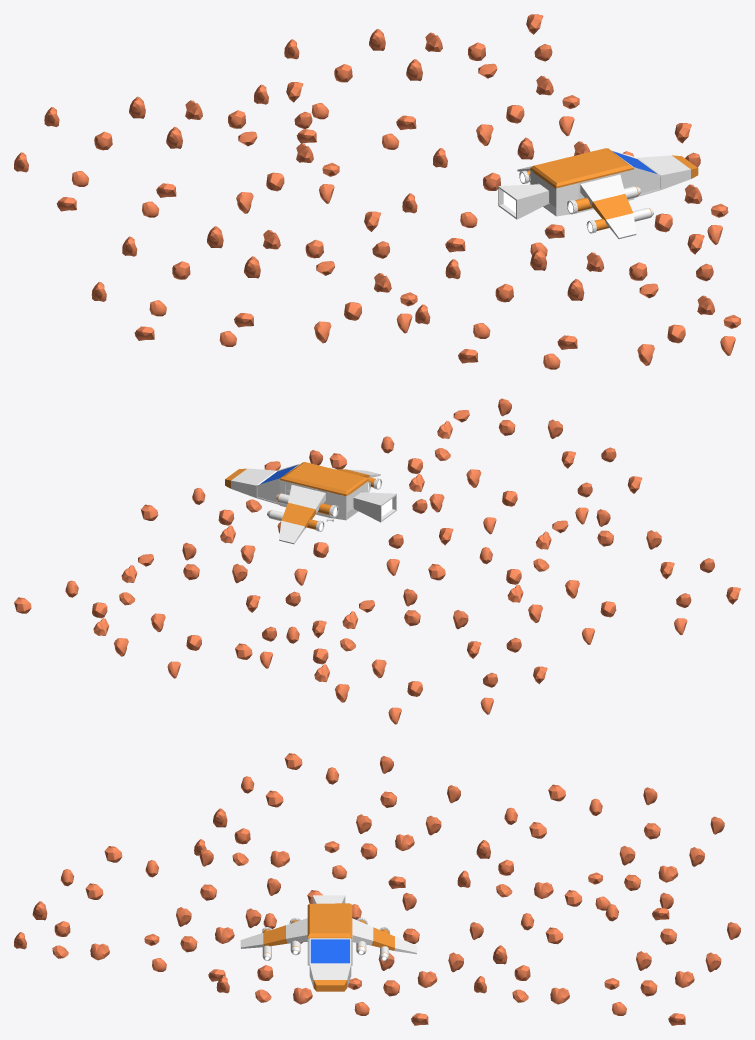
File: PortfolioSpaceBoxFinalNAV.glb
3 views of the same model, one above another, from view 1: azimuth 30°, elevation 25°; view 2: azimuth 150°, elevation 25°; view 3: azimuth 270°, elevation 25° (orthographic). The views are drawn at different scales.
Parts seen in each view (by area): view 1: Rocks, TopPane, WingR, Cockpit, Prop, Back; view 2: Rocks, TopPane, WingL, Cockpit, Prop, Back; view 3: Rocks, Cockpit, TopPane, WingR, WingL.
Part boxes in pixels (box(x1,y1,x2,y2)): Rocks: box(14, 14, 740, 369); TopPane: box(530, 148, 633, 188); WingR: box(580, 174, 636, 238); Cockpit: box(611, 150, 698, 197); Prop: box(498, 184, 548, 219); Back: box(530, 169, 578, 216); Rocks: box(14, 398, 740, 724); TopPane: box(280, 462, 368, 496); WingL: box(279, 485, 325, 544); Cockpit: box(225, 463, 300, 504); Prop: box(353, 492, 396, 522); Back: box(328, 481, 368, 520); Rocks: box(14, 753, 740, 1025); Cockpit: box(307, 938, 351, 991); TopPane: box(307, 903, 352, 939); WingR: box(240, 918, 307, 948); WingL: box(352, 918, 417, 954).
Bounding box in the file's own units: 87.43 × 6.9 × 101.
